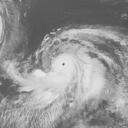cyclone: (4, 25, 110, 108)
